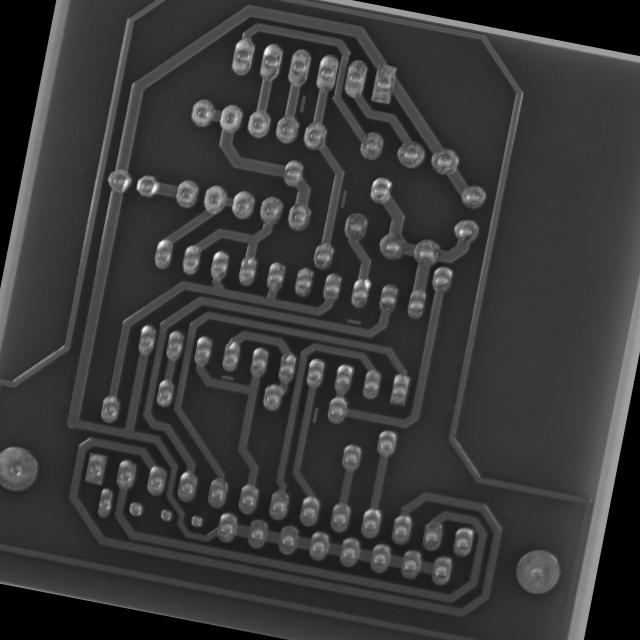spurious_copper: (334, 184, 352, 213), (292, 91, 312, 117), (342, 314, 365, 330), (308, 404, 322, 426), (218, 370, 236, 386)
